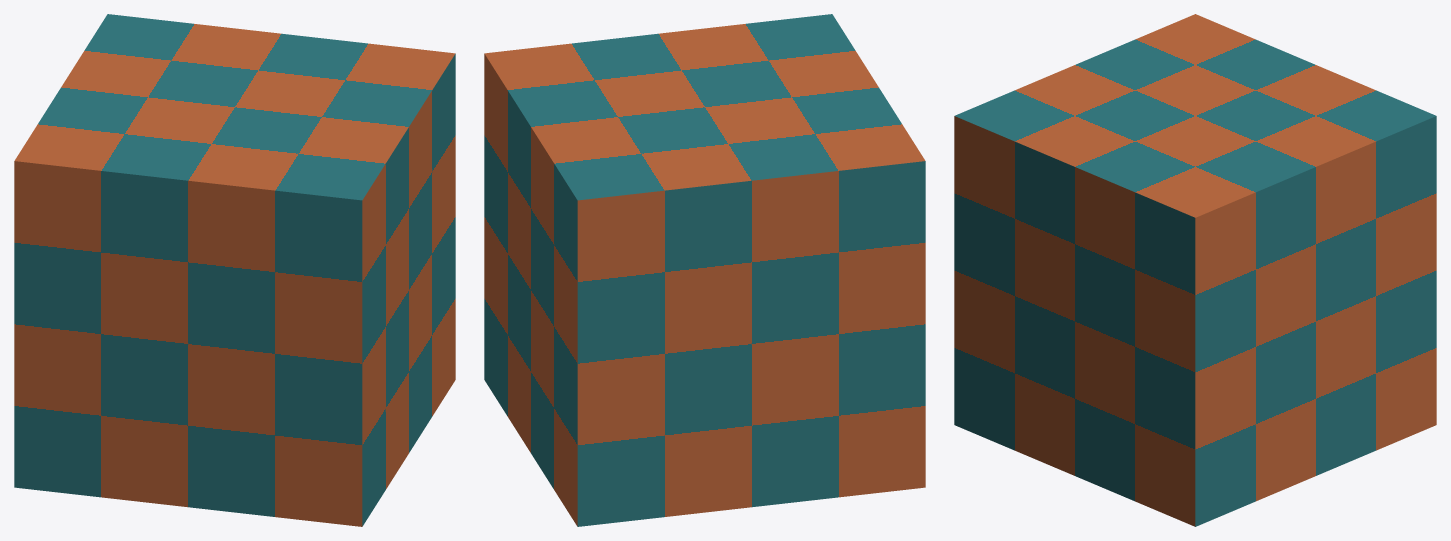
The model's file is sample.glb.
3 renders of one model, left to right at view 1: azimuth 30°, elevation 25°; view 2: azimuth 150°, elevation 25°; view 3: azimuth 270°, elevation 25°, orthographic. The views are drawn at different scales.
Bounding box in the file's own units: 1.41 × 1 × 1.41.
Materials: 1 (1 with a texture image).
